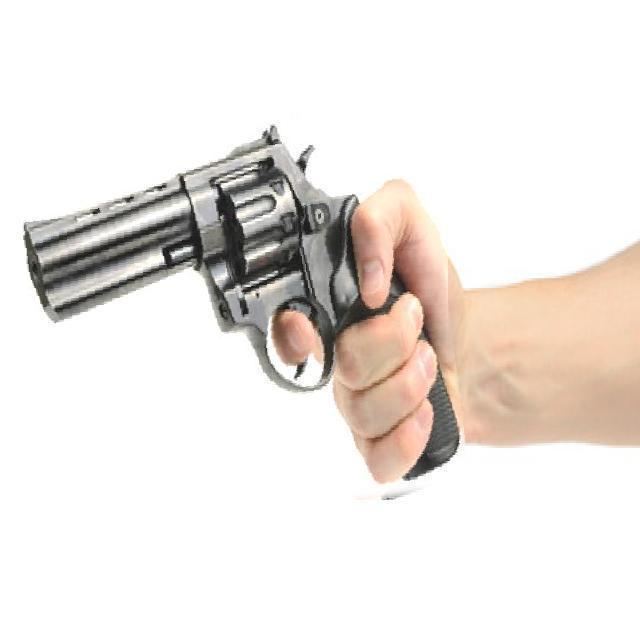Handgun: (11, 106, 460, 527)
